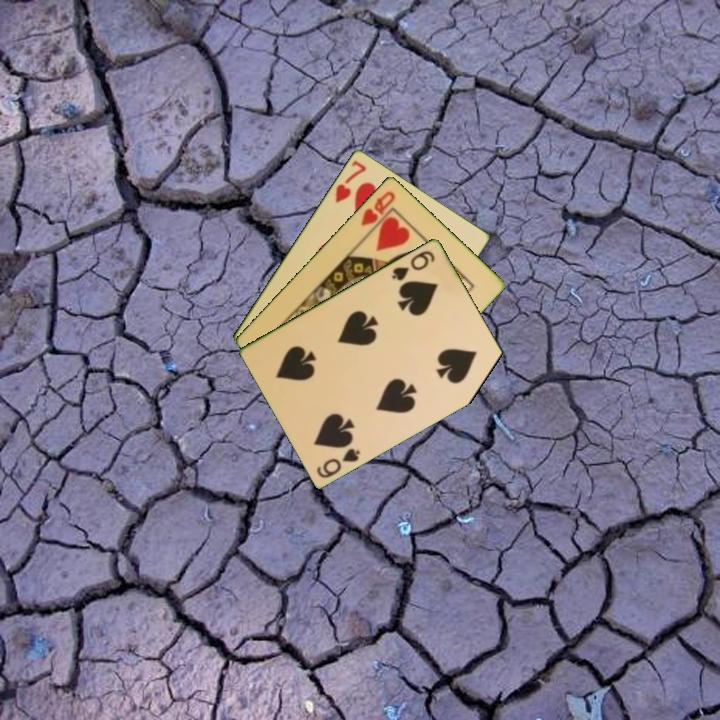6s: (388, 246, 438, 283), (313, 444, 363, 481)
7h: (331, 156, 369, 206)
Qh: (357, 187, 398, 229)
